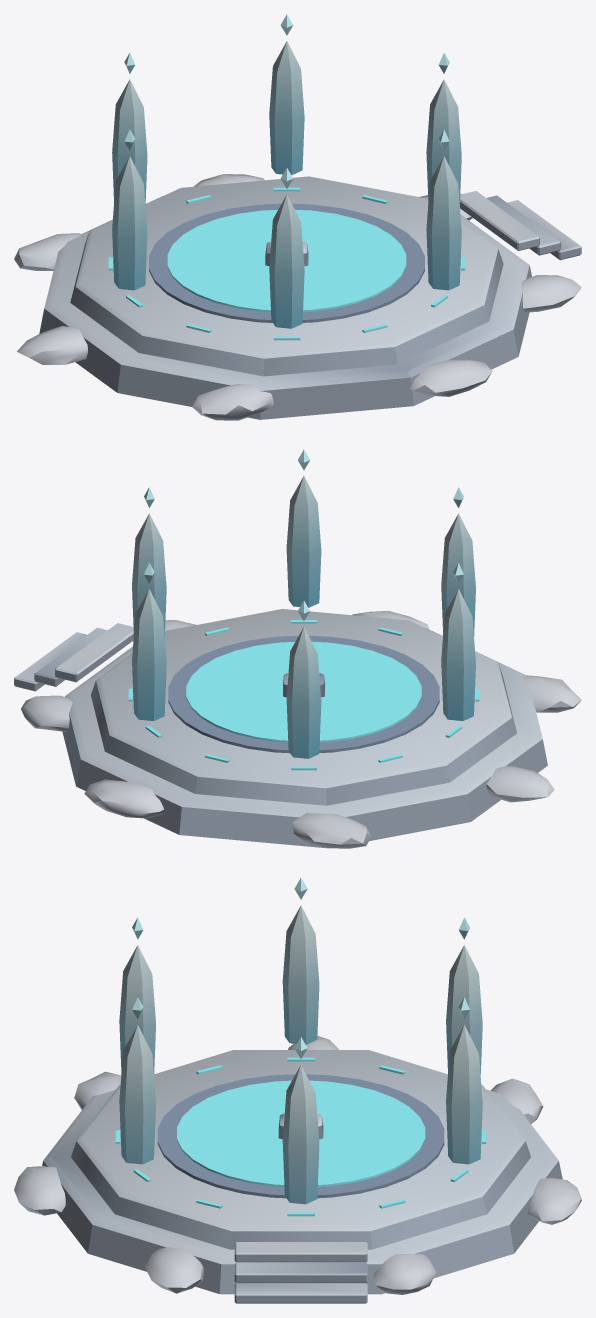
The model's file is aurora_shrine.glb.
3 renders of one model, top to bottom at view 1: azimuth 30°, elevation 25°; view 2: azimuth 150°, elevation 25°; view 3: azimuth 270°, elevation 25°, orthographic. The views are drawn at different scales.
Parts seen in each view (by area): view 1: aurora_shrine, aurora_shrine_glow; view 2: aurora_shrine, aurora_shrine_glow; view 3: aurora_shrine, aurora_shrine_glow.
Part boxes in pixels (bbox=[...]): aurora_shrine: bbox=[14, 41, 581, 420]; aurora_shrine_glow: bbox=[108, 14, 465, 340]; aurora_shrine: bbox=[14, 476, 581, 848]; aurora_shrine_glow: bbox=[128, 450, 479, 770]; aurora_shrine: bbox=[14, 905, 581, 1303]; aurora_shrine_glow: bbox=[115, 878, 486, 1216].
Size of the model in its own units: 11.31 by 4.6 by 10.24.
